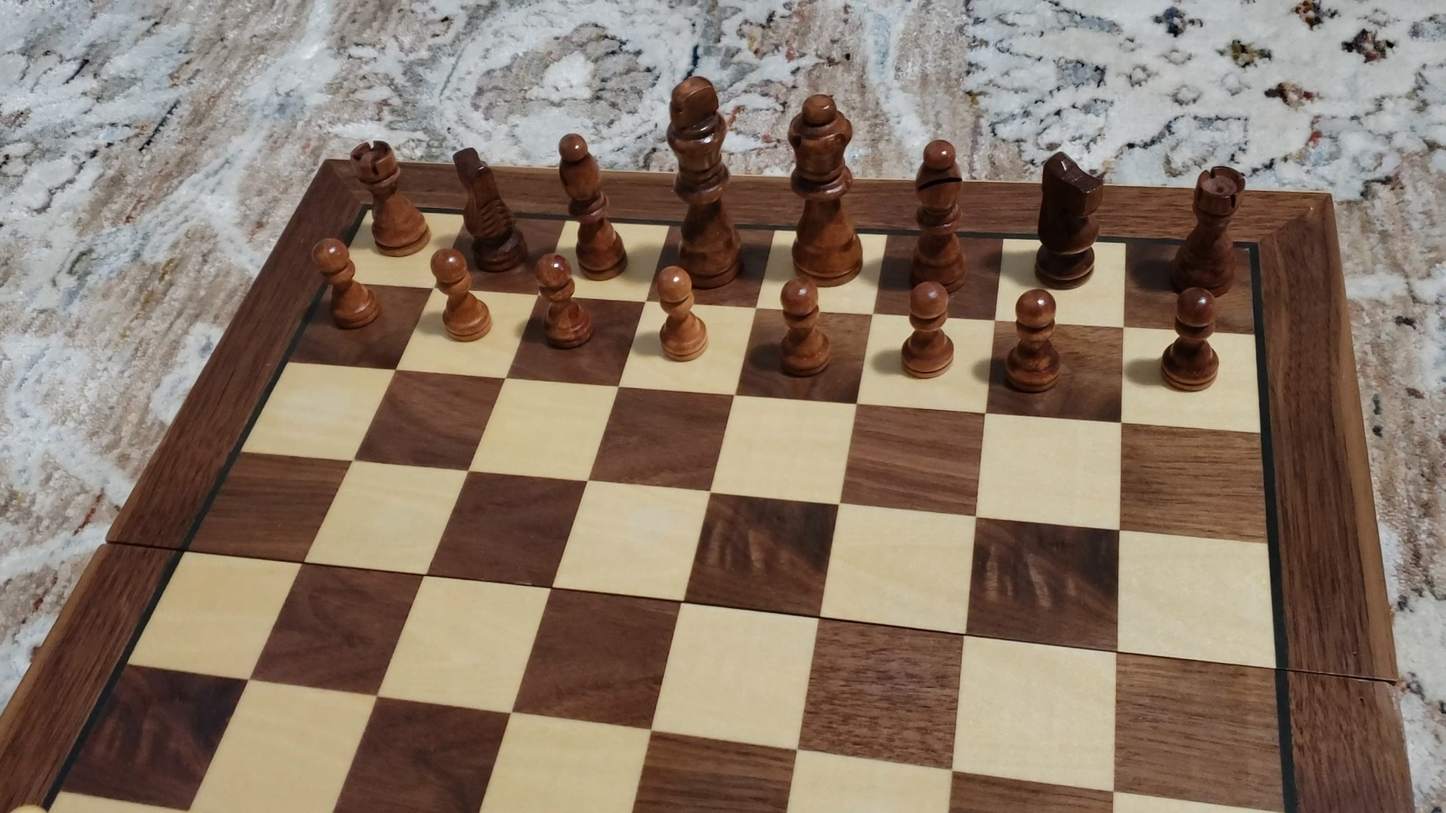black-bishop: (555, 131, 626, 279), (911, 136, 968, 292)
black-king: (664, 69, 743, 292)
black-knight: (1032, 146, 1105, 286), (452, 145, 527, 273)
black-pawn: (1158, 285, 1222, 395), (310, 237, 378, 332), (1005, 286, 1061, 395), (533, 251, 593, 351), (430, 246, 490, 343), (776, 276, 831, 379), (901, 278, 955, 381), (653, 263, 707, 362)
black-queen: (782, 89, 865, 286)
black-rook: (1167, 164, 1248, 295), (349, 139, 429, 256)
